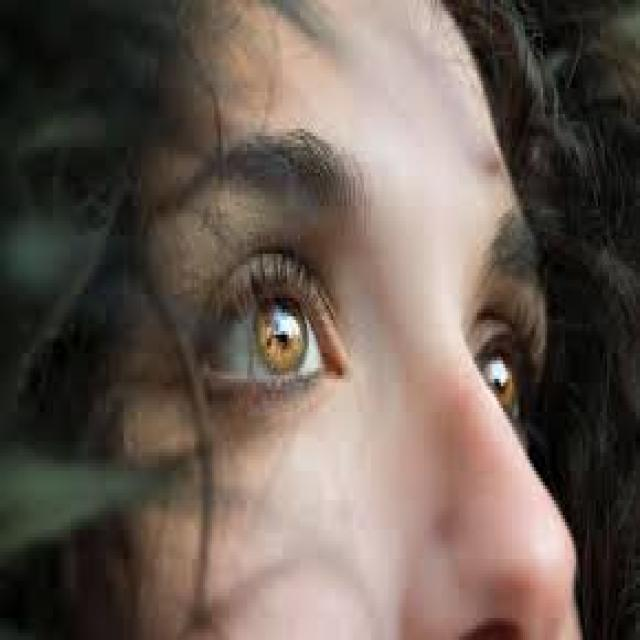Eyes-iris: (256, 292, 310, 378)
